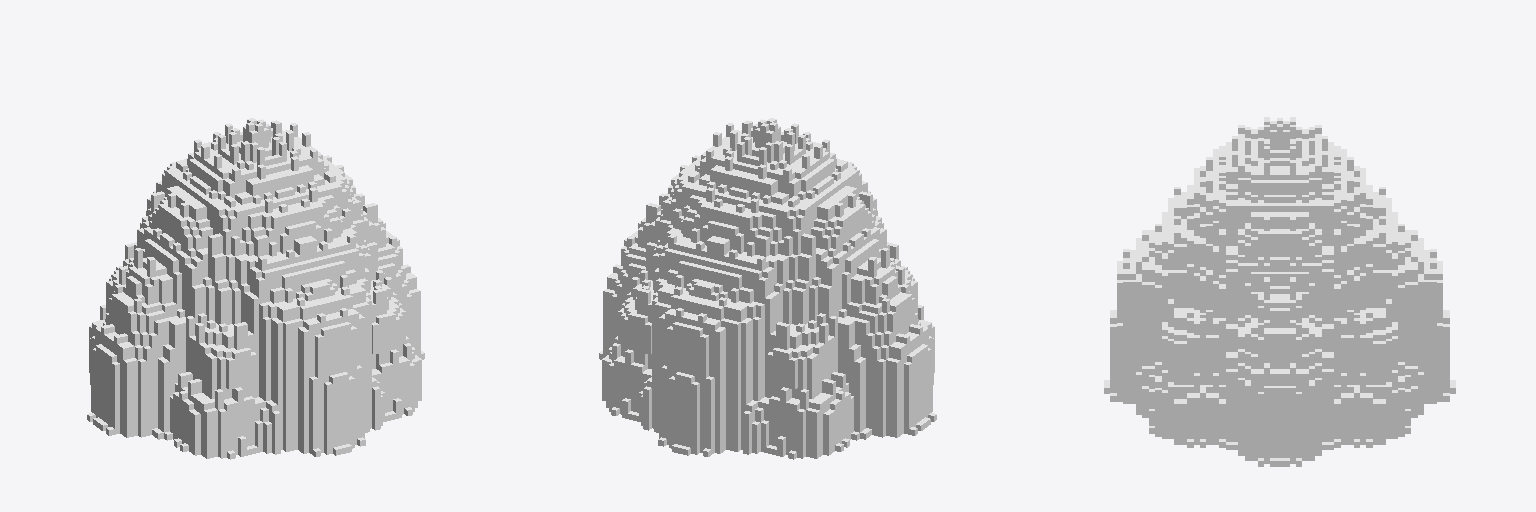
File: thicket.obj
3 views of the same model, side by side, from view 1: azimuth 30°, elevation 25°; view 2: azimuth 150°, elevation 25°; view 3: azimuth 270°, elevation 25° (orthographic).
Parts seen in each view (by area): view 1: object 1; view 2: object 1; view 3: object 1.
Part boxes in pixels (left/top/right/bottom): object 1: left=87, top=118, right=424, bottom=459; object 1: left=599, top=118, right=936, bottom=459; object 1: left=1104, top=117, right=1455, bottom=466.
Bounding box in the file's own units: 5.7 × 4.6 × 5.5.